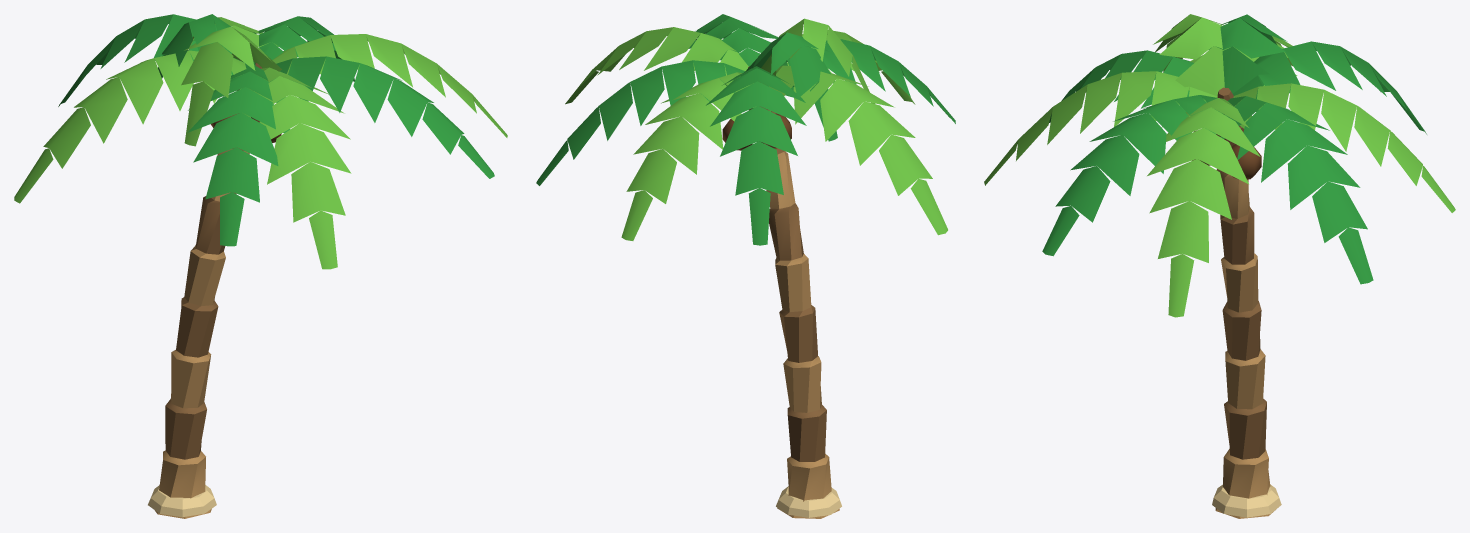
The model's file is palm_post.glb.
3 views of the same model, side by side, from view 1: azimuth 30°, elevation 25°; view 2: azimuth 150°, elevation 25°; view 3: azimuth 270°, elevation 25° (orthographic). The views are drawn at different scales.
Parts seen in each view (by area): view 1: palm_post; view 2: palm_post; view 3: palm_post.
Part boxes in pixels (x1,y1,x2,y2): palm_post: (14, 14, 507, 518); palm_post: (536, 14, 955, 518); palm_post: (984, 14, 1455, 518).
Bounding box in the file's own units: 4.13 × 4.32 × 3.69.
